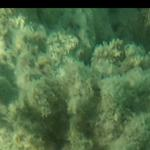dead: (8, 20, 138, 139)
